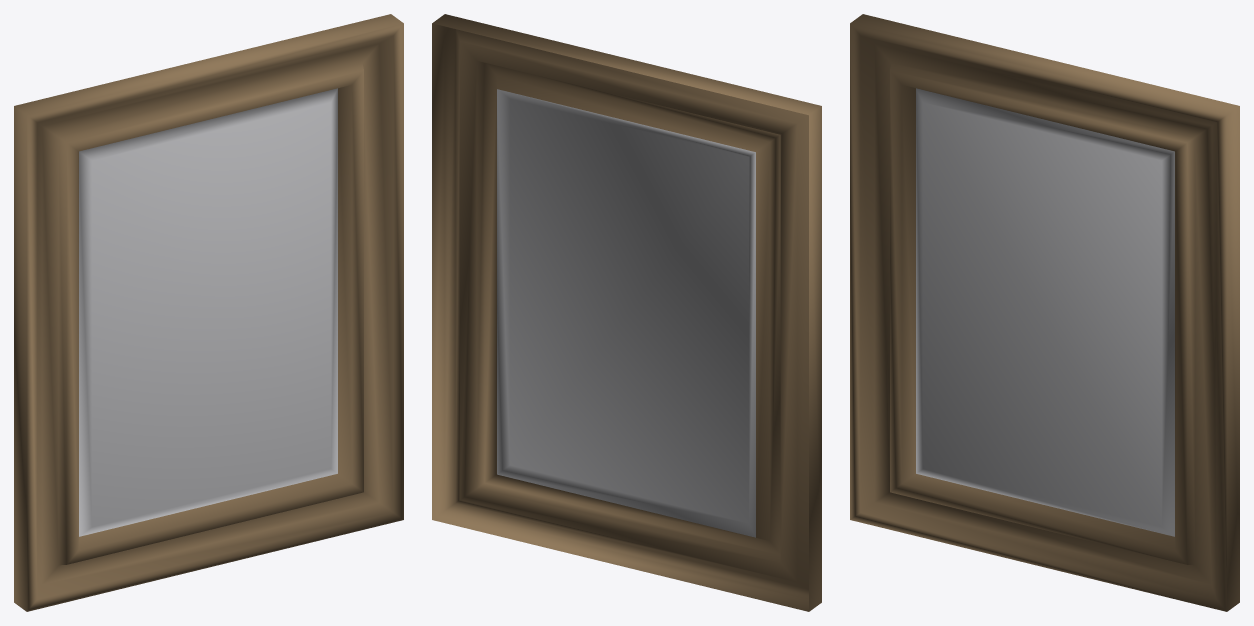
The model's file is rpgpp_ag_mirror_01.fbx.
The picture shows the model from 3 angles, left to right: view 1: azimuth 30°, elevation 25°; view 2: azimuth 150°, elevation 25°; view 3: azimuth 330°, elevation 25°; orthographic projection.
Visible parts, largest first — view 1: rpgpp_ag_mirror_01; view 2: rpgpp_ag_mirror_01; view 3: rpgpp_ag_mirror_01.
Part boxes in pixels (x1,y1,x2,y2): rpgpp_ag_mirror_01: (14, 14, 403, 611); rpgpp_ag_mirror_01: (432, 14, 821, 611); rpgpp_ag_mirror_01: (850, 14, 1239, 611).
Bounding box in the file's own units: 0.8842 × 1.11 × 0.0519.
